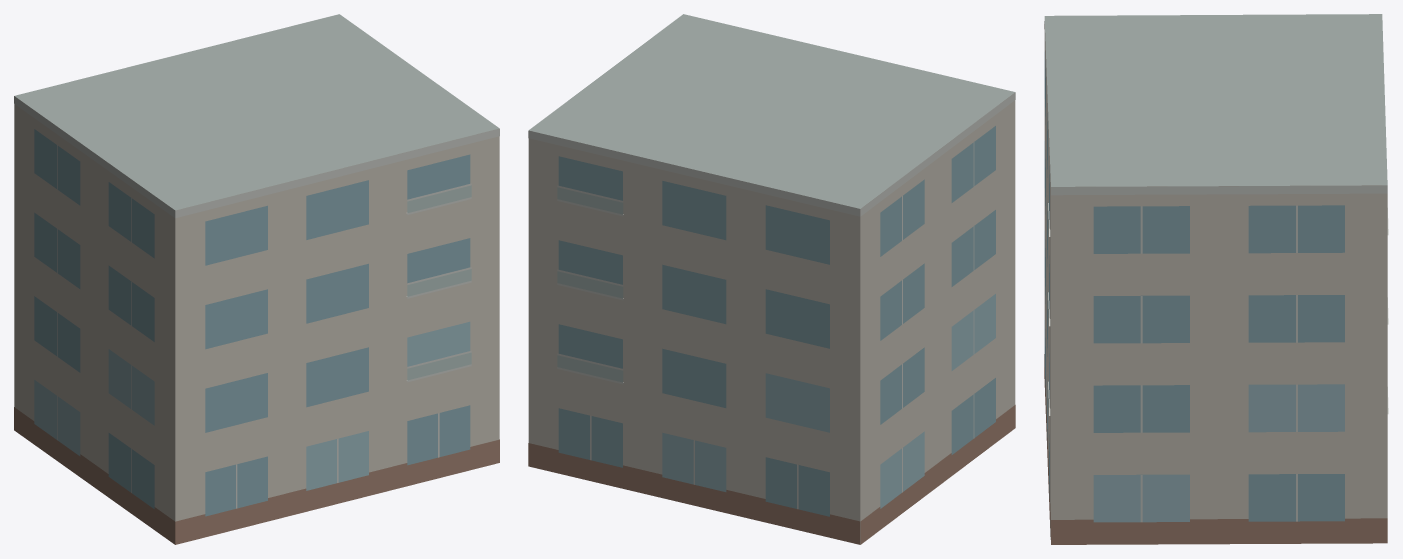
Rendered from survey-upis-32532296.glb.
3 renders of one model, left to right at view 1: azimuth 30°, elevation 25°; view 2: azimuth 150°, elevation 25°; view 3: azimuth 270°, elevation 25°, orthographic. The views are drawn at different scales.
Visible parts, largest first — view 1: survey-upis-32532296.tmp; view 2: survey-upis-32532296.tmp; view 3: survey-upis-32532296.tmp.
Boxes of the visible parts, left/top/right/bottom form: survey-upis-32532296.tmp: left=14, top=14, right=499, bottom=544; survey-upis-32532296.tmp: left=528, top=14, right=1015, bottom=544; survey-upis-32532296.tmp: left=1044, top=14, right=1388, bottom=544.
Size of the model in its own units: 10.89 by 10.5 by 9.16.
